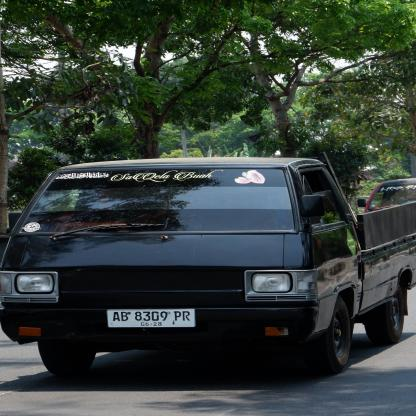Plat-Nomor: (106, 304, 197, 335)
